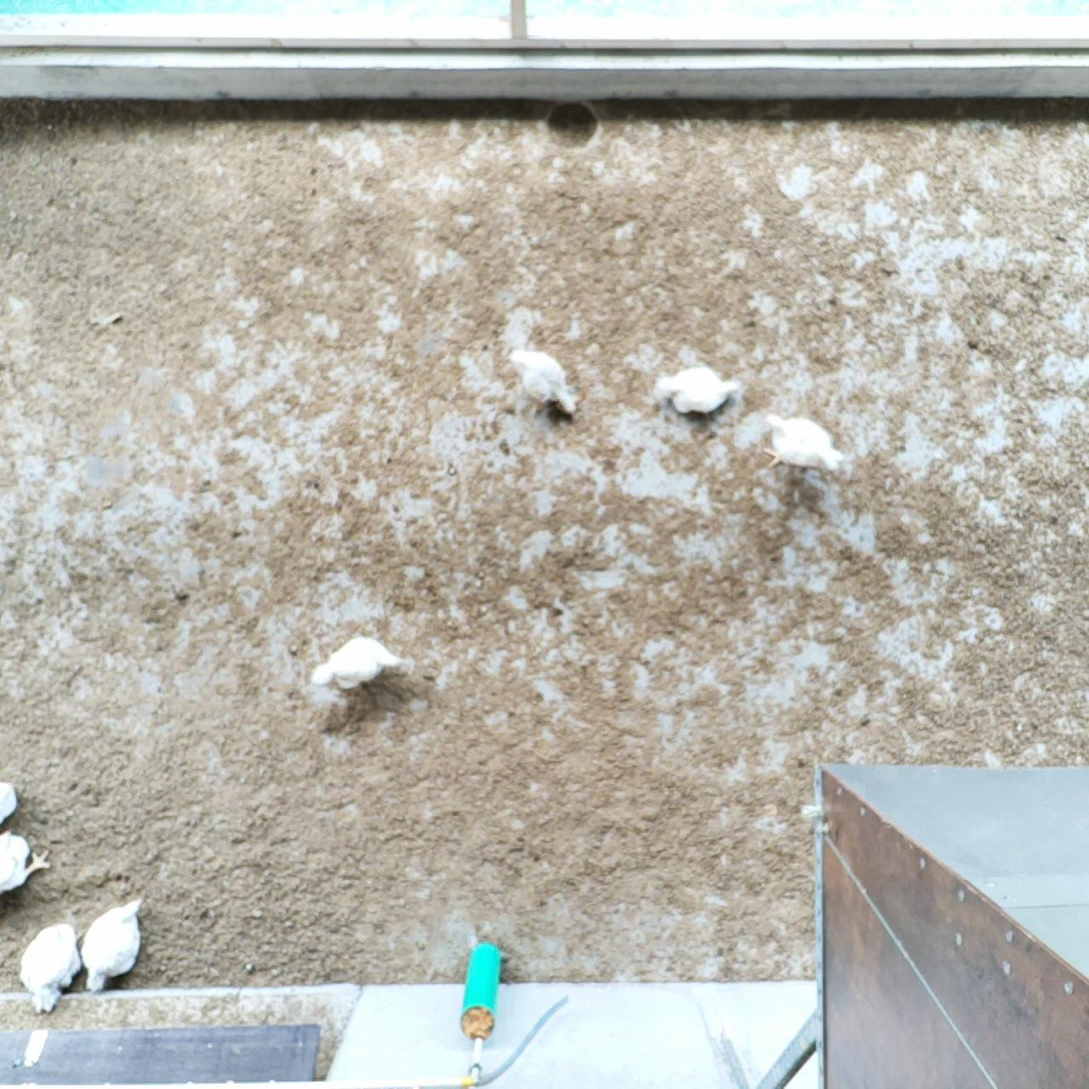chicken: (77, 893, 150, 995), (19, 917, 83, 1018), (761, 405, 847, 477), (504, 343, 579, 423), (311, 636, 414, 694), (656, 366, 741, 421), (0, 826, 49, 896), (0, 773, 20, 824)
